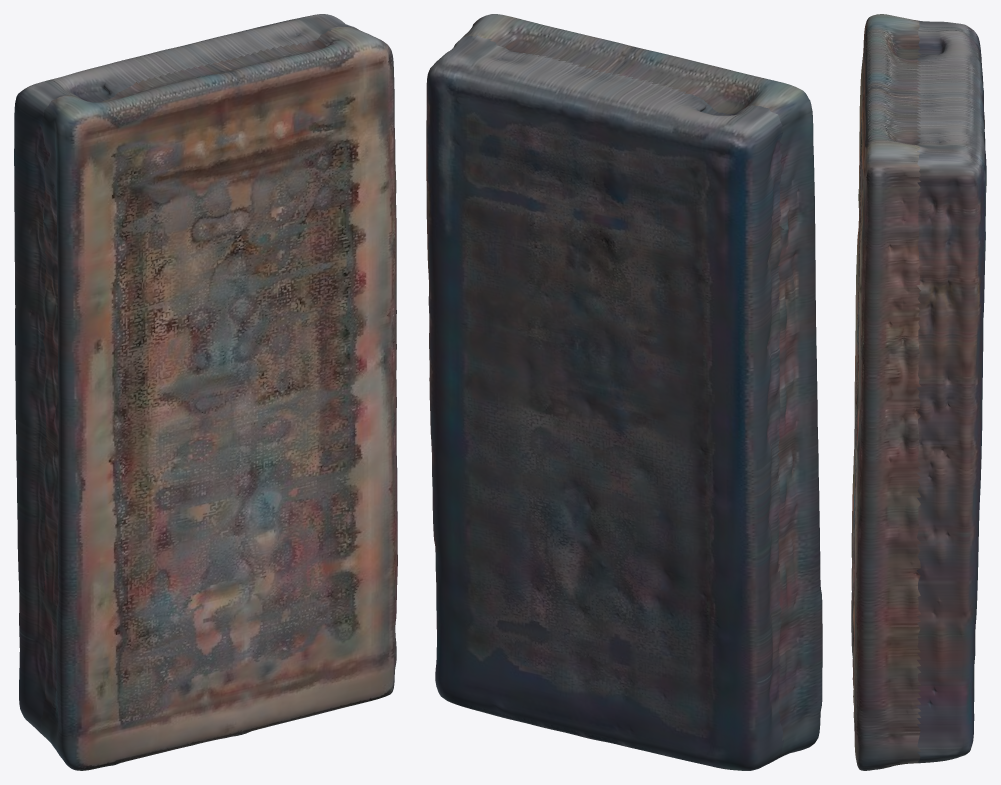
Rendered from kfl-2233.glb.
3 renders of one model, left to right at view 1: azimuth 30°, elevation 25°; view 2: azimuth 150°, elevation 25°; view 3: azimuth 270°, elevation 25°, orthographic. The views are drawn at different scales.
Parts seen in each view (by area): view 1: geometry_0; view 2: geometry_0; view 3: geometry_0.
Boxes of the visible parts, box(x1,y1,x2,y2) form: geometry_0: box(14, 14, 397, 770); geometry_0: box(426, 14, 822, 770); geometry_0: box(851, 14, 986, 770).
Size of the model in its own units: 0.5358 by 0.996 by 0.1967.
Materials: 1 (1 with a texture image).
